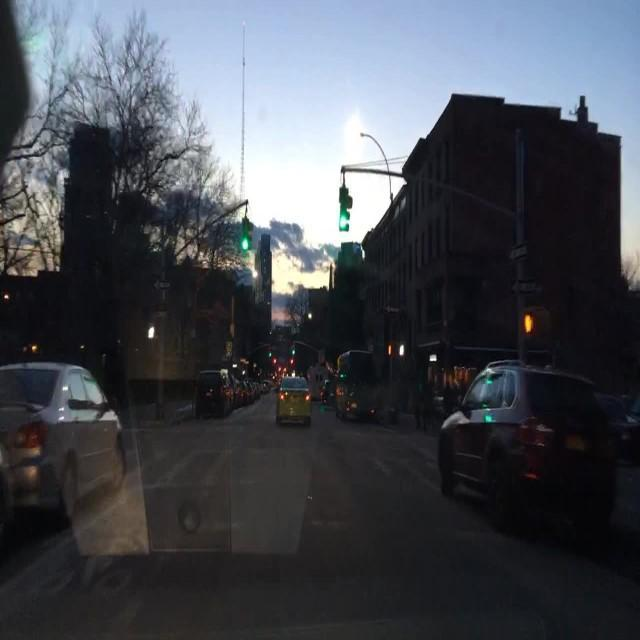normal: (438, 364, 639, 539), (0, 364, 124, 540), (195, 366, 234, 417), (276, 378, 312, 428)
